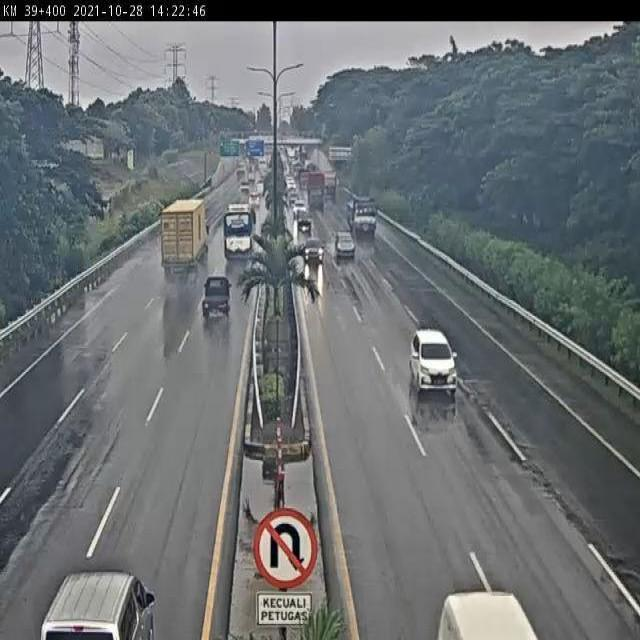car: (201, 275, 234, 319)
truck: (159, 198, 209, 278), (224, 199, 258, 255)
